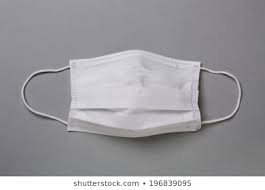mask: (67, 53, 205, 137)
